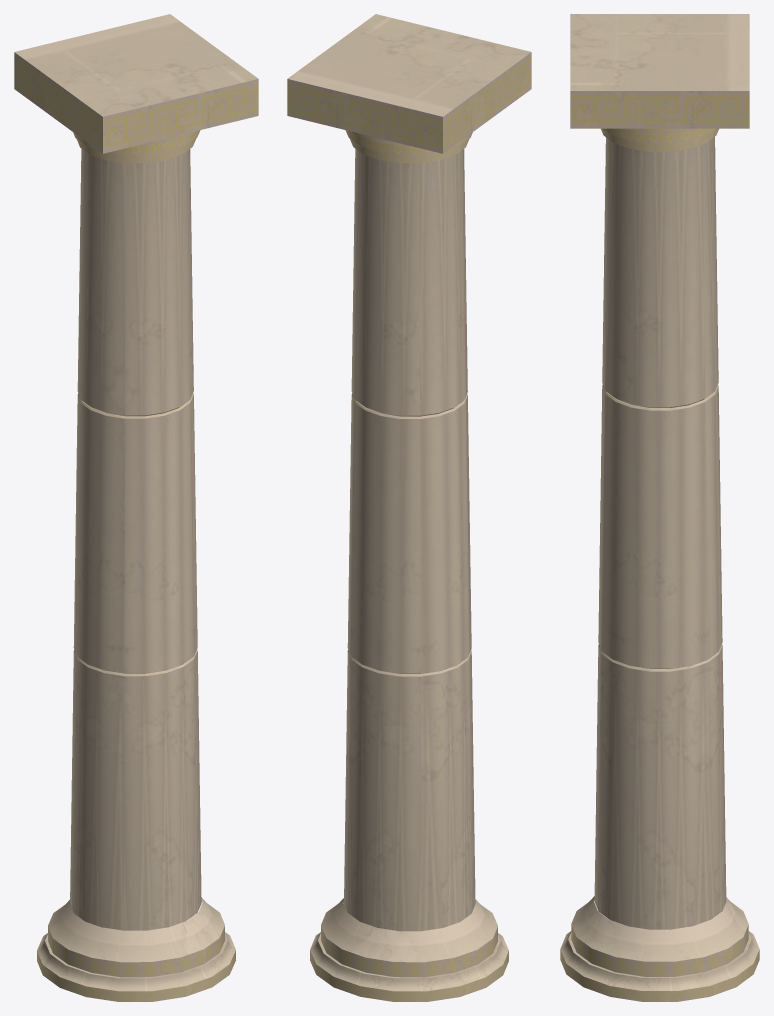
Rendered from SM_temple_column_02.glb.
The picture shows the model from 3 angles, left to right: view 1: azimuth 30°, elevation 25°; view 2: azimuth 150°, elevation 25°; view 3: azimuth 270°, elevation 25°; orthographic projection.
Parts seen in each view (by area): view 1: SM_temple_column_02; view 2: SM_temple_column_02; view 3: SM_temple_column_02.
Boxes of the visible parts, x1,y1,x2,y2 form: SM_temple_column_02: (14, 14, 258, 1001); SM_temple_column_02: (287, 14, 531, 1001); SM_temple_column_02: (560, 14, 759, 1001).
Bounding box in the file's own units: 2.6 × 13.04 × 2.6.
1 material, 1 textured.
